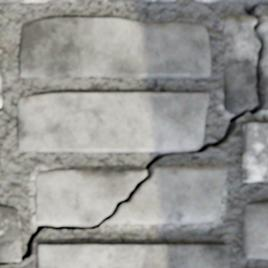brick: (19, 17, 210, 78), (17, 92, 208, 152), (37, 244, 228, 267), (242, 202, 267, 258), (243, 123, 267, 181), (0, 206, 21, 260), (0, 0, 174, 2), (198, 0, 267, 3), (0, 49, 2, 106)
broken_brick: (104, 166, 225, 224), (34, 168, 145, 224), (223, 15, 258, 114), (260, 45, 267, 111), (262, 15, 267, 39)
crack: (0, 2, 267, 265)
